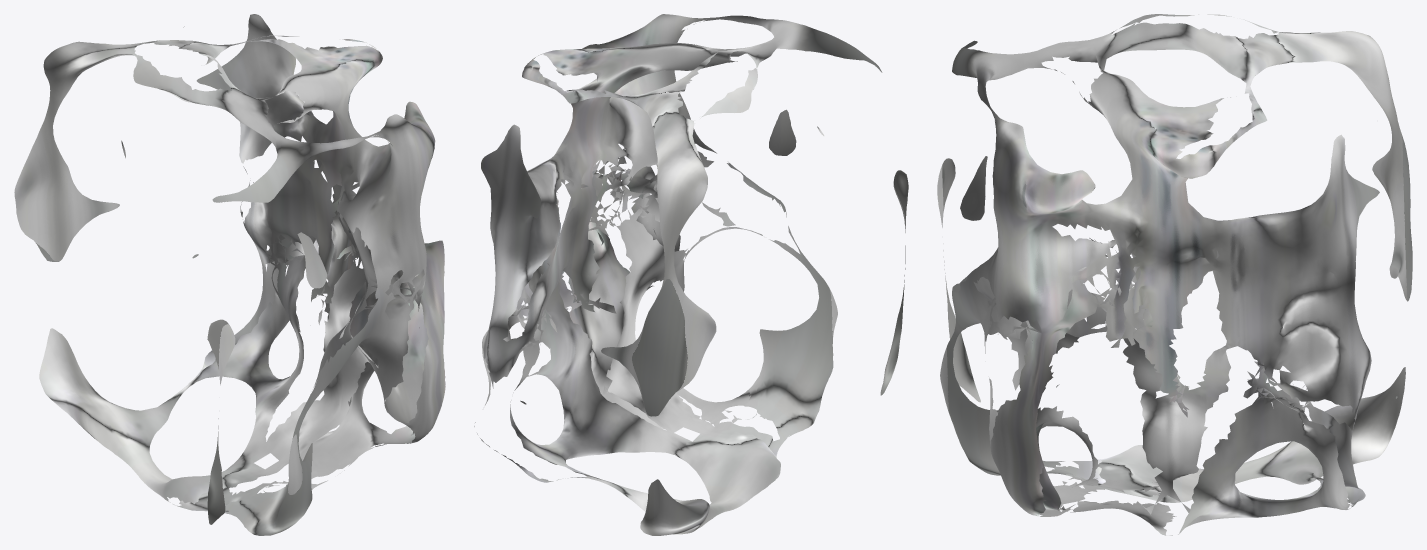
3 views of the same model, side by side, from view 1: azimuth 30°, elevation 25°; view 2: azimuth 150°, elevation 25°; view 3: azimuth 270°, elevation 25° (orthographic). The views are drawn at different scales.
Visible parts, largest first — view 1: Renderer Node; view 2: Renderer Node; view 3: Renderer Node.
Boxes of the visible parts, left/top/right/bottom form: Renderer Node: left=14, top=14, right=445, bottom=535; Renderer Node: left=474, top=14, right=908, bottom=535; Renderer Node: left=937, top=14, right=1412, bottom=535.
Bounding box in the file's own units: 1.56 × 2.31 × 2.06.
1 material, 1 textured.
